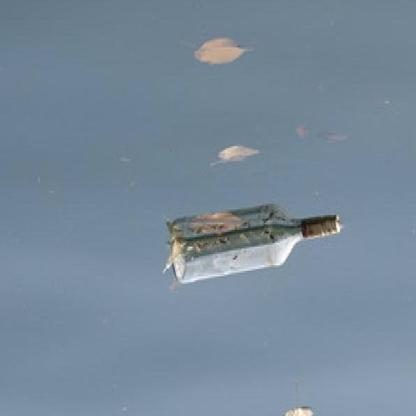plastic bottle: (168, 215, 341, 281)
